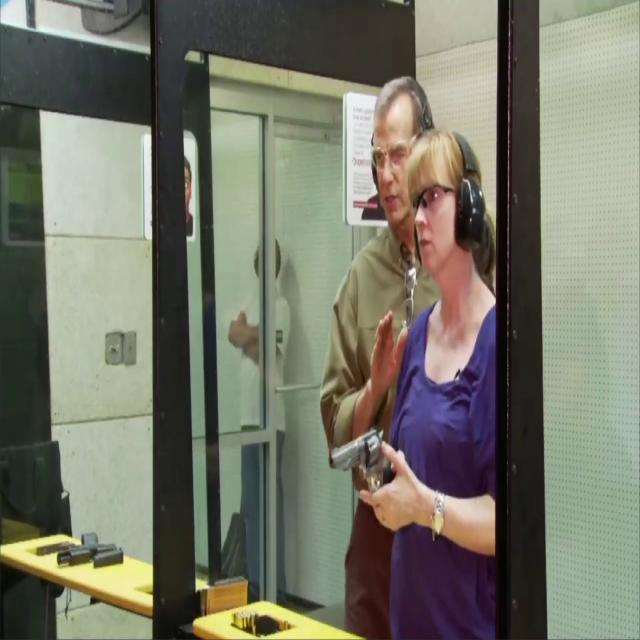weapon: (326, 422, 396, 497)
